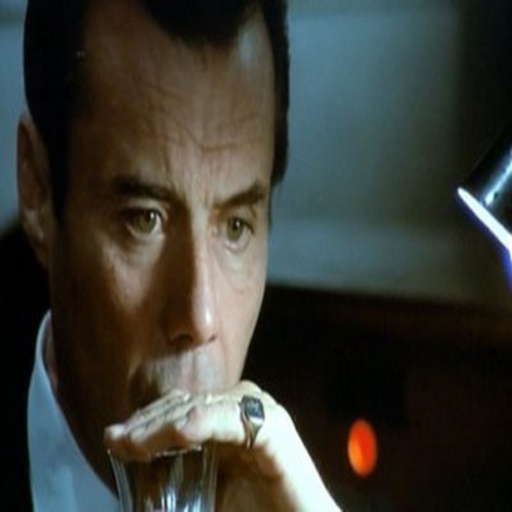hand: (122, 376, 264, 469)
